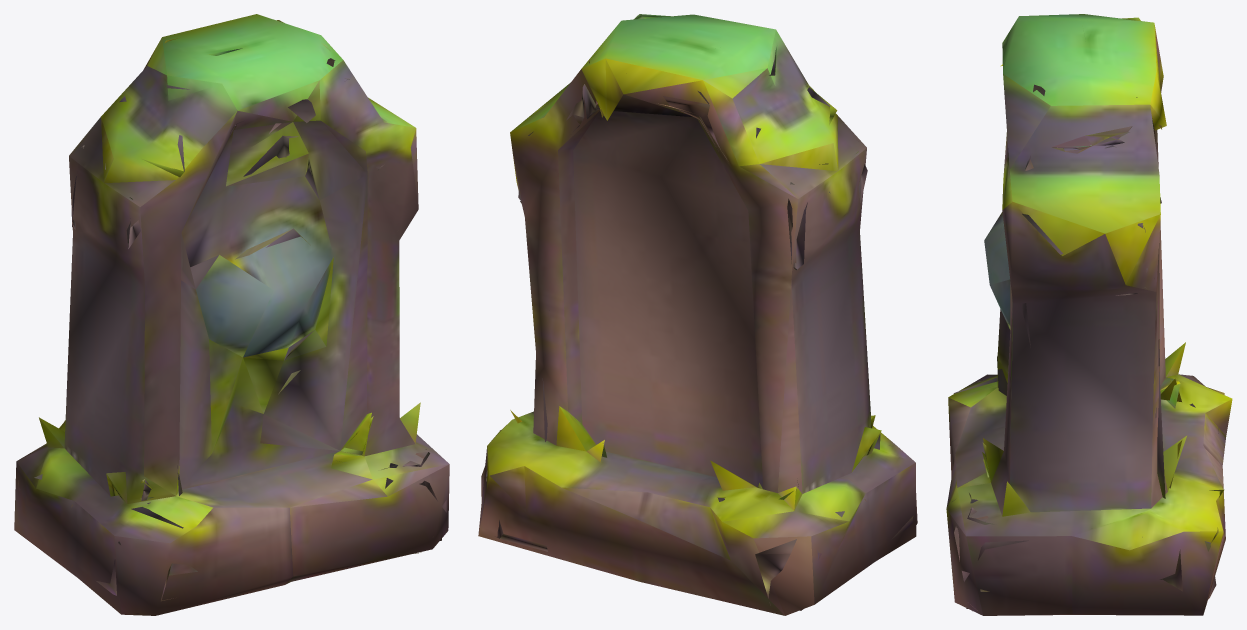
File: lg-gravestone-a.glb
3 renders of one model, left to right at view 1: azimuth 30°, elevation 25°; view 2: azimuth 150°, elevation 25°; view 3: azimuth 270°, elevation 25°, orthographic. The views are drawn at different scales.
Visible parts, largest first — view 1: geometry_0; view 2: geometry_0; view 3: geometry_0.
Boxes of the visible parts, bbox=[...] form: geometry_0: bbox=[14, 14, 449, 615]; geometry_0: bbox=[478, 14, 917, 615]; geometry_0: bbox=[946, 14, 1232, 615].
Bounding box in the file's own units: 0.7356 × 1 × 0.5084.
Materials: 1 (1 with a texture image).
